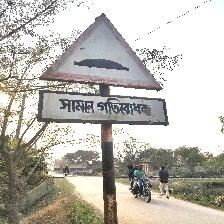Speed-breaker: (37, 12, 168, 126)
